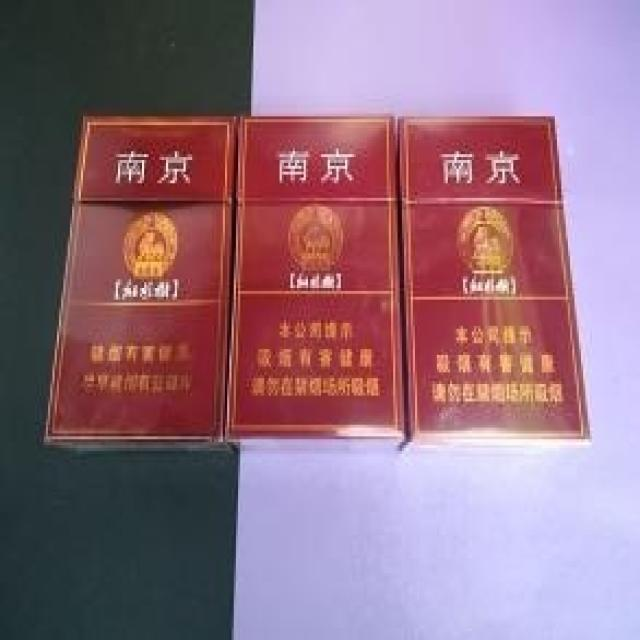box: (398, 113, 592, 460), (44, 116, 238, 454), (227, 116, 404, 454)
